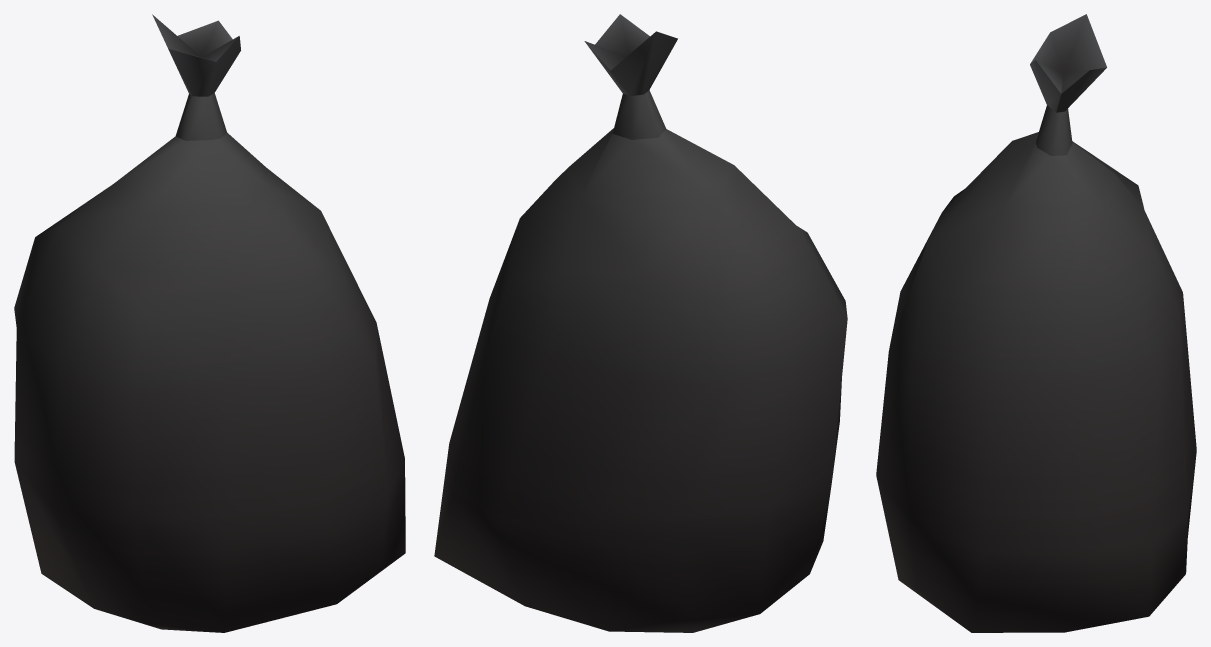
Rendered from Trash_bag_002.fbx.
The picture shows the model from 3 angles, left to right: view 1: azimuth 30°, elevation 25°; view 2: azimuth 150°, elevation 25°; view 3: azimuth 270°, elevation 25°; orthographic projection. The views are drawn at different scales.
Visible parts, largest first — view 1: Trash_bag_002; view 2: Trash_bag_002; view 3: Trash_bag_002.
Part boxes in pixels (x1,y1,x2,y2): Trash_bag_002: (14,14,405,632); Trash_bag_002: (434,14,847,632); Trash_bag_002: (876,14,1196,632).
Size of the model in its own units: 33.02 by 27.72 by 52.19.
